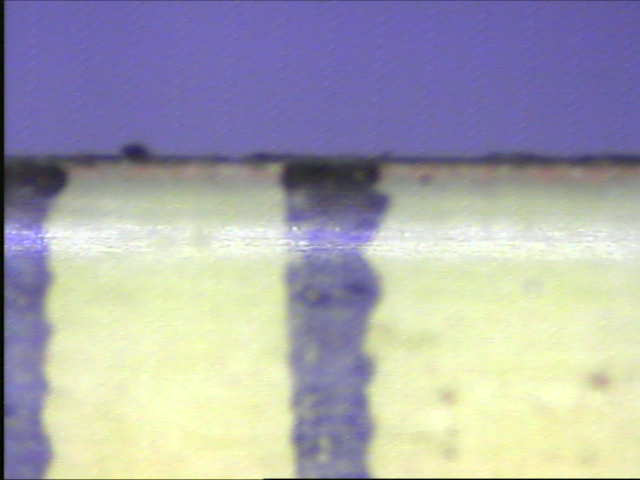line: (279, 160, 393, 478)
